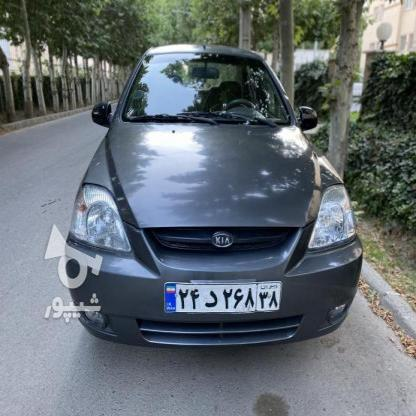licence: (163, 281, 280, 309)
